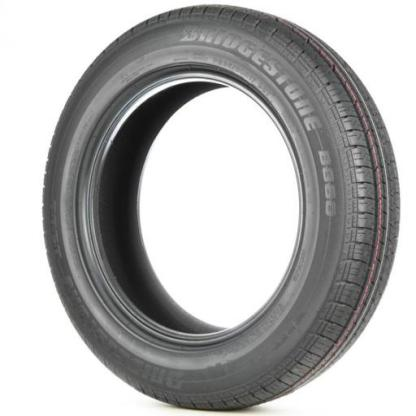Tire: (40, 3, 403, 412)
